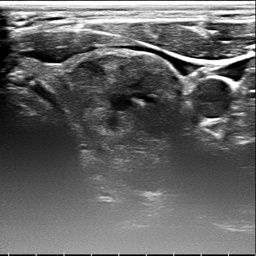mass: (68, 55, 179, 143)
